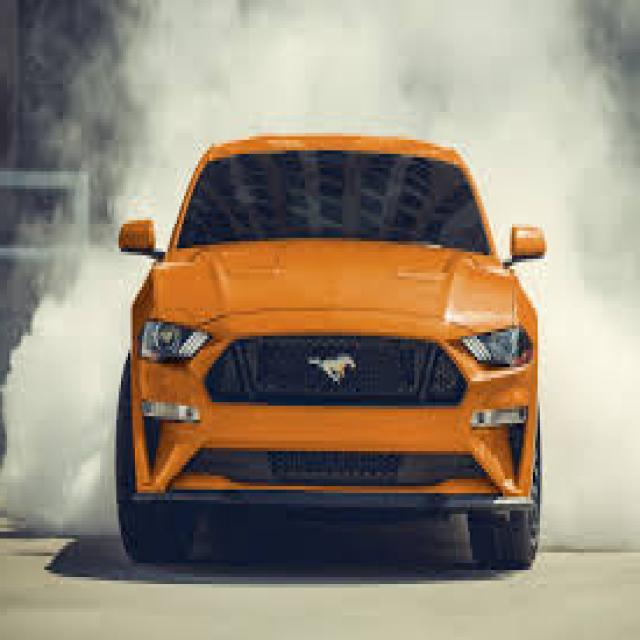car: (118, 144, 546, 567)
